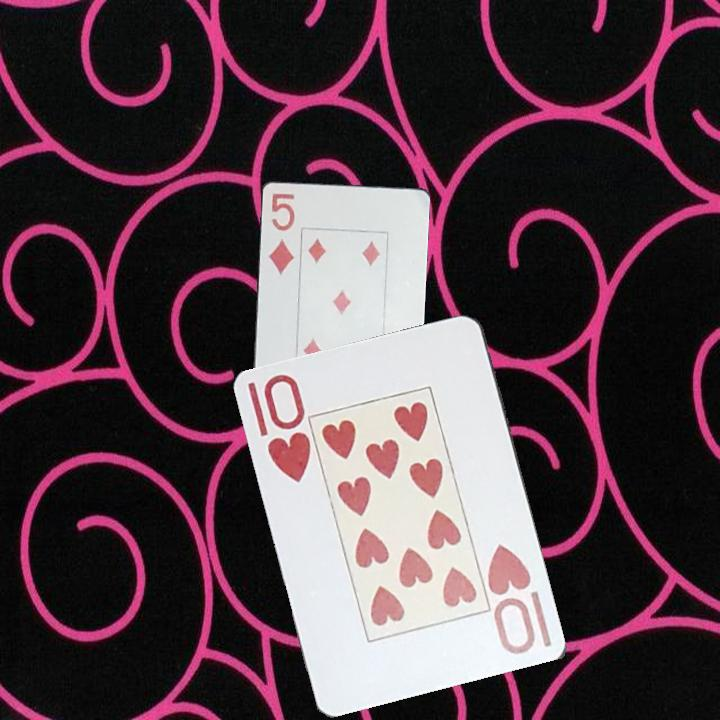5d: (265, 189, 298, 277)
Th: (244, 371, 315, 486), (484, 540, 539, 658)
